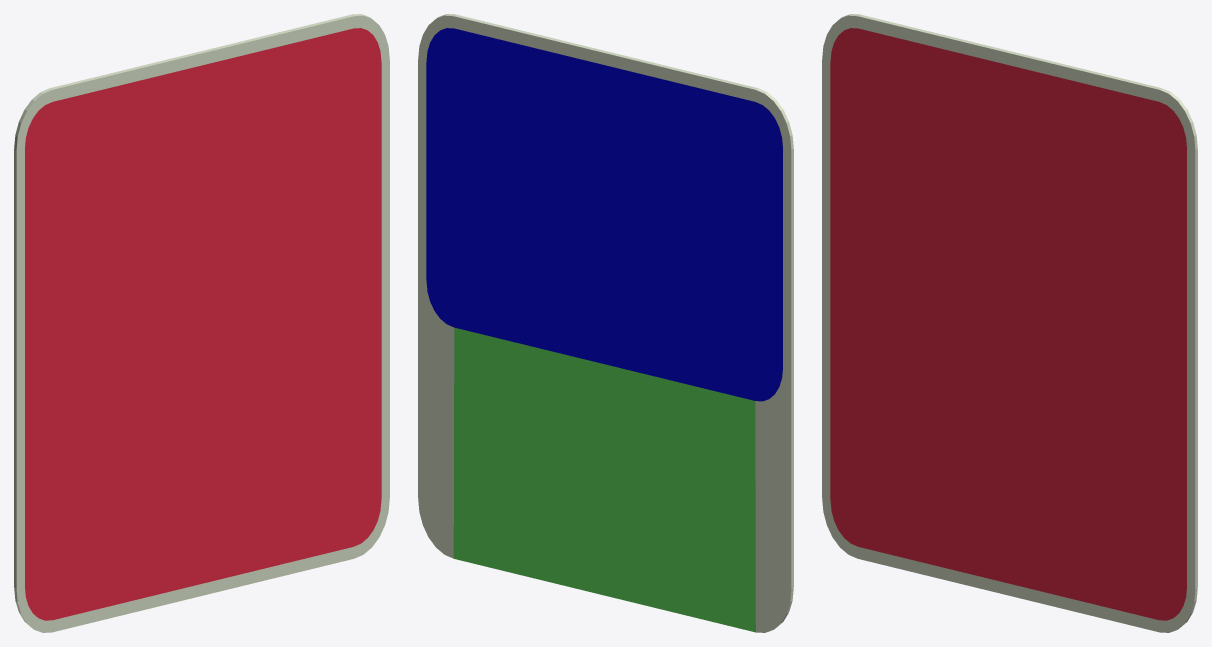
File: MainCard.fbx
3 views of the same model, side by side, from view 1: azimuth 30°, elevation 25°; view 2: azimuth 150°, elevation 25°; view 3: azimuth 330°, elevation 25° (orthographic).
Visible parts, largest first — view 1: Cube; view 2: Cube; view 3: Cube.
Boxes of the visible parts, x1,y1,x2,y2 form: Cube: [14, 14, 389, 632]; Cube: [418, 14, 793, 632]; Cube: [822, 14, 1197, 632].
Size of the model in its own units: 360 by 500 by 4.
